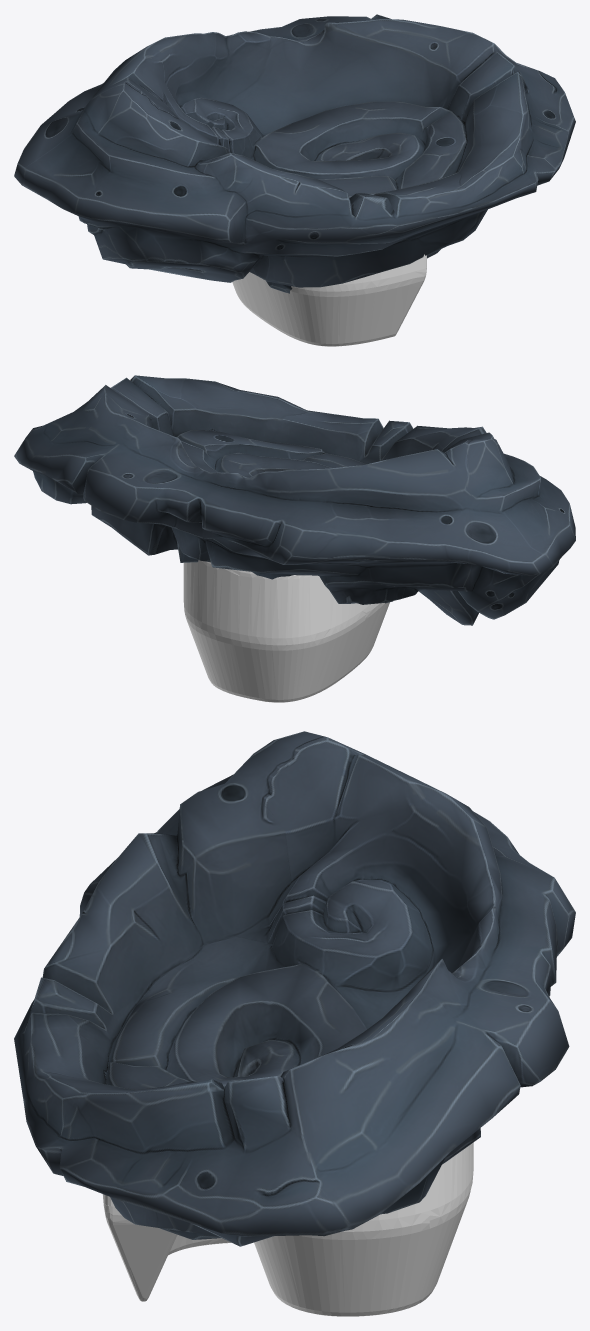
Rendered from astn9.fbx.
The picture shows the model from 3 angles, top to bottom: view 1: azimuth 30°, elevation 25°; view 2: azimuth 150°, elevation 25°; view 3: azimuth 270°, elevation 25°; orthographic projection. The views are drawn at different scales.
Visible parts, largest first — view 1: node_id140, node_id48; view 2: node_id140, node_id48; view 3: node_id140, node_id48.
Part boxes in pixels (x1,y1,x2,y2): node_id140: [14, 14, 575, 293]; node_id48: [232, 254, 426, 346]; node_id140: [14, 375, 575, 625]; node_id48: [183, 560, 389, 702]; node_id140: [14, 731, 575, 1246]; node_id48: [102, 1142, 473, 1316].
Size of the model in its own units: 99 by 47.67 by 59.65.
Materials: 2 (2 with a texture image).
